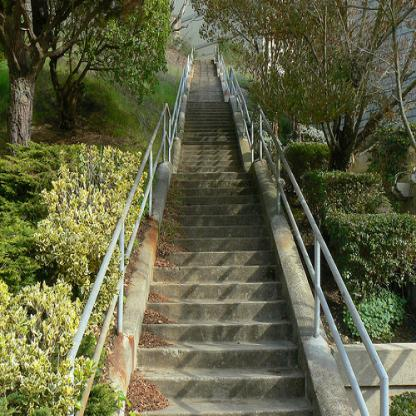stairs: (156, 265, 281, 411)
